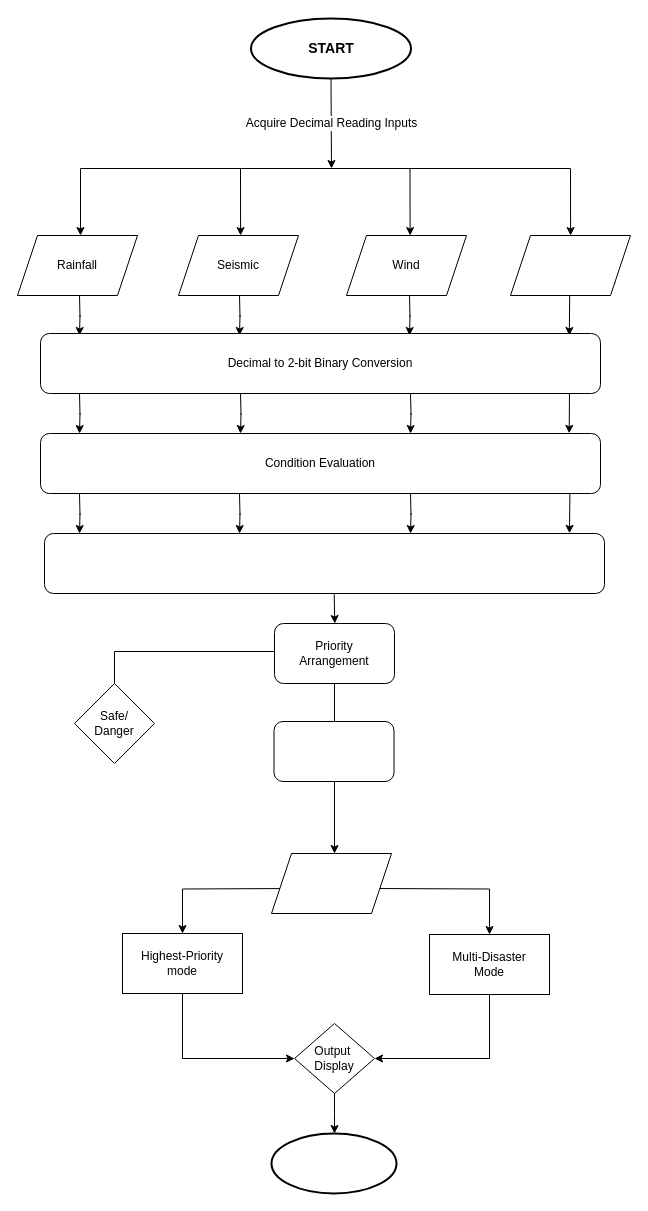
The diagram is 648 pixels wide and 1211 high, and some of its shapes have lost their labels. The shapes that lost their labels are listed below. From the top down, each one's centre as x and y in pixels, then its label:
the point at 570,265: Sea Level
the point at 324,563: Decision stage
the point at 333,751: Decoded Disaster
the point at 331,883: Mode
the point at 333,1163: END
